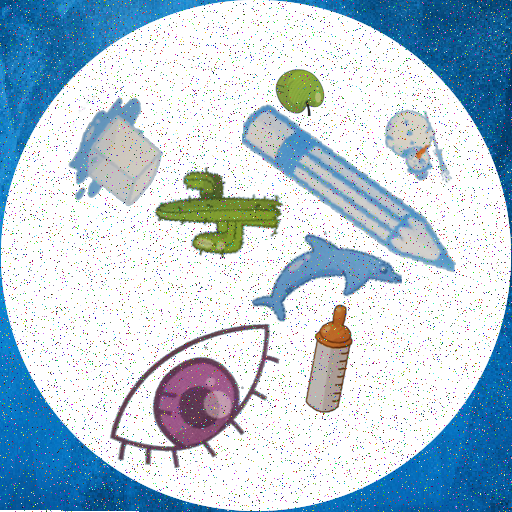apple_icon: (275, 63, 328, 116)
bottle_icon: (275, 303, 388, 416)
cactus_icon: (154, 149, 288, 283)
cube_icon: (59, 95, 187, 223)
dolphin_icon: (252, 203, 402, 353)
eye_icon: (96, 293, 295, 492)
pen_icon: (237, 81, 462, 306)
snowman_icon: (380, 105, 465, 190)
